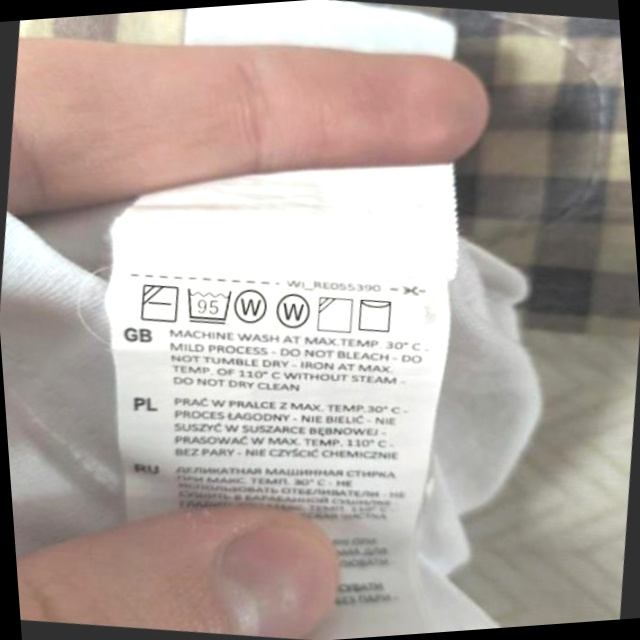95C: (181, 281, 237, 329)
dry_flat_in_shade: (135, 278, 183, 328)
line_dry: (353, 292, 399, 338)
shade_dry: (312, 291, 358, 338)
wet_clean: (271, 288, 316, 335), (231, 282, 274, 329)
